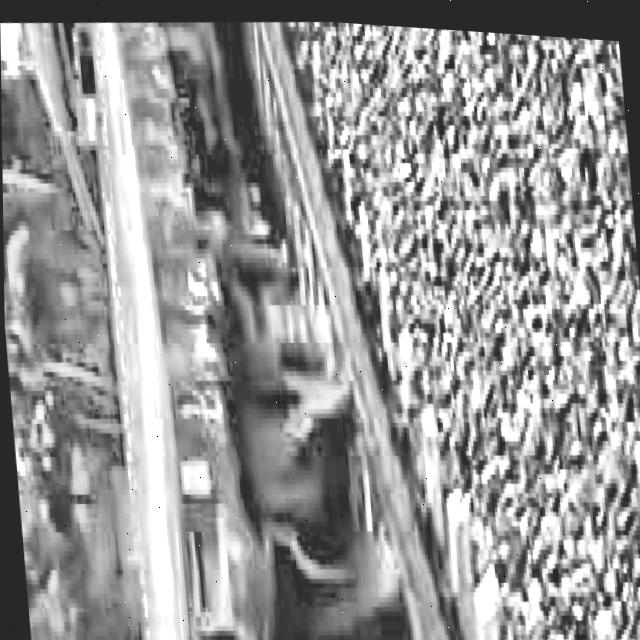Gerbong: (42, 2, 389, 640)
Lokomotif: (0, 5, 250, 139)
